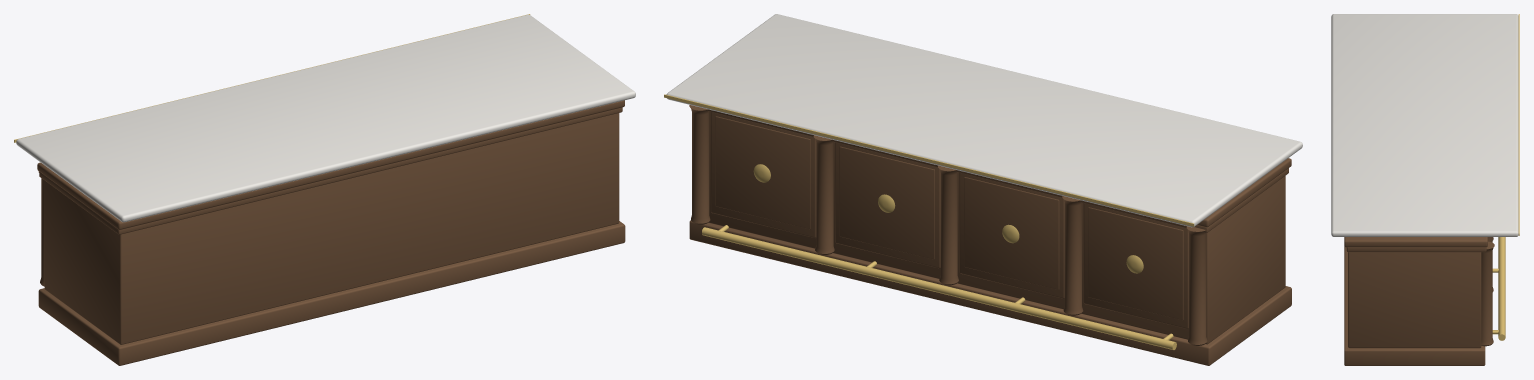
File: arr_banco.fbx
3 views of the same model, side by side, from view 1: azimuth 30°, elevation 25°; view 2: azimuth 150°, elevation 25°; view 3: azimuth 270°, elevation 25° (orthographic). The views are drawn at different scales.
Visible parts, largest first — view 1: arr_banco_noce, arr_banco_marmo; view 2: arr_banco_noce, arr_banco_marmo, arr_banco_ottone; view 3: arr_banco_marmo, arr_banco_noce, arr_banco_ottone.
Part boxes in pixels (x1,y1,x2,y2): arr_banco_noce: (37,100,625,365); arr_banco_marmo: (16,14,635,222); arr_banco_noce: (689,105,1291,365); arr_banco_marmo: (666,14,1302,227); arr_banco_ottone: (664,94,1194,349); arr_banco_marmo: (1331,14,1518,236); arr_banco_noce: (1344,237,1494,365); arr_banco_ottone: (1492,14,1519,340).
Size of the model in its own units: 4.05 by 1.17 by 1.47.
